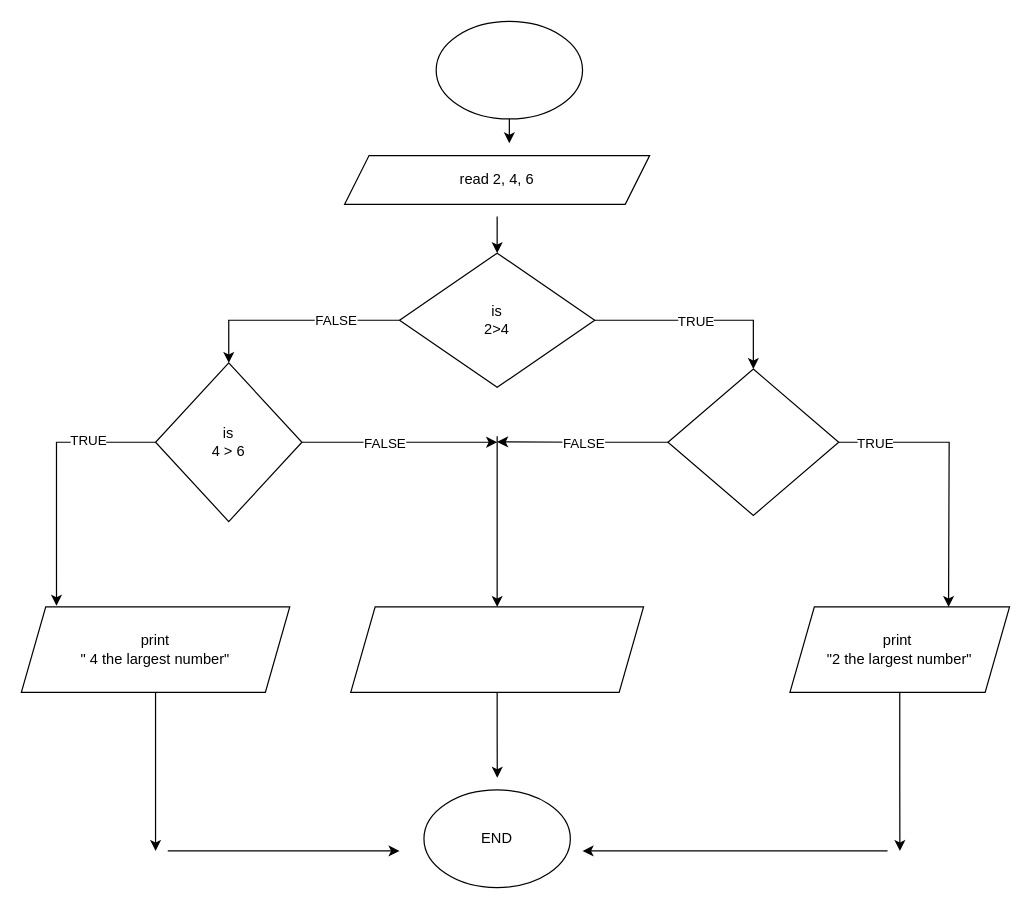
Image size: 1031x909. Some labels were removed from this diagram. Here are the shapes that lost their labels. From the top down, the box of each, then its label:
(435, 20, 583, 119): start
(667, 368, 839, 515): is 2 > 6
(350, 606, 644, 692): print "6 the largest number"
